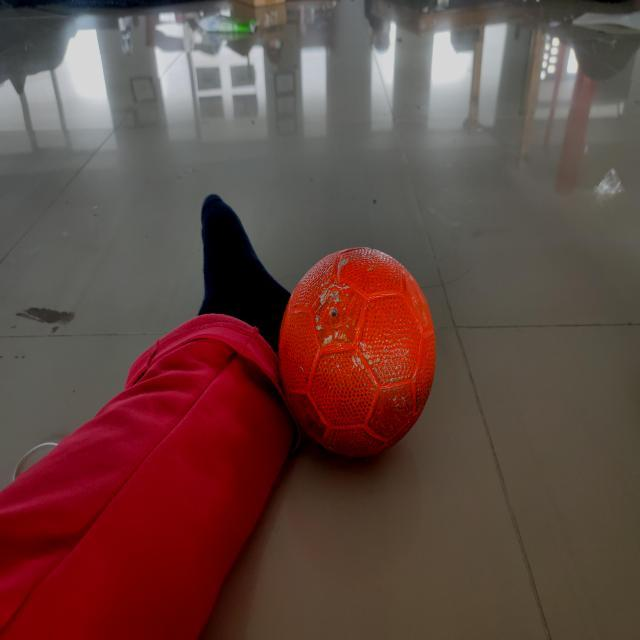bola: (274, 239, 442, 465)
